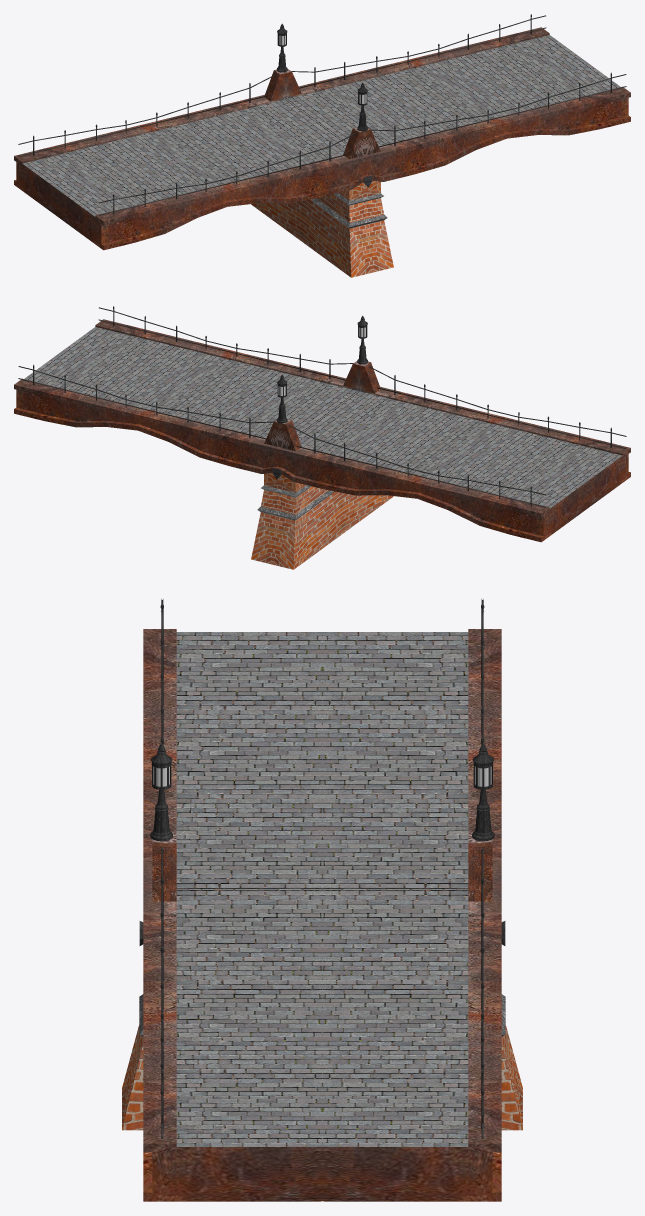
The model's file is Bridge_River.fbx.
The picture shows the model from 3 angles, top to bottom: view 1: azimuth 30°, elevation 25°; view 2: azimuth 150°, elevation 25°; view 3: azimuth 270°, elevation 25°; orthographic projection. The views are drawn at different scales.
Visible parts, largest first — view 1: River_Bridge_LOD0; view 2: River_Bridge_LOD0; view 3: River_Bridge_LOD0.
Part boxes in pixels (bbox=[...]): River_Bridge_LOD0: bbox=[14, 14, 630, 277]; River_Bridge_LOD0: bbox=[14, 306, 630, 569]; River_Bridge_LOD0: bbox=[122, 599, 522, 1201].
Size of what is drawn, in the model's own units: 7994 by 2644 by 2633.
